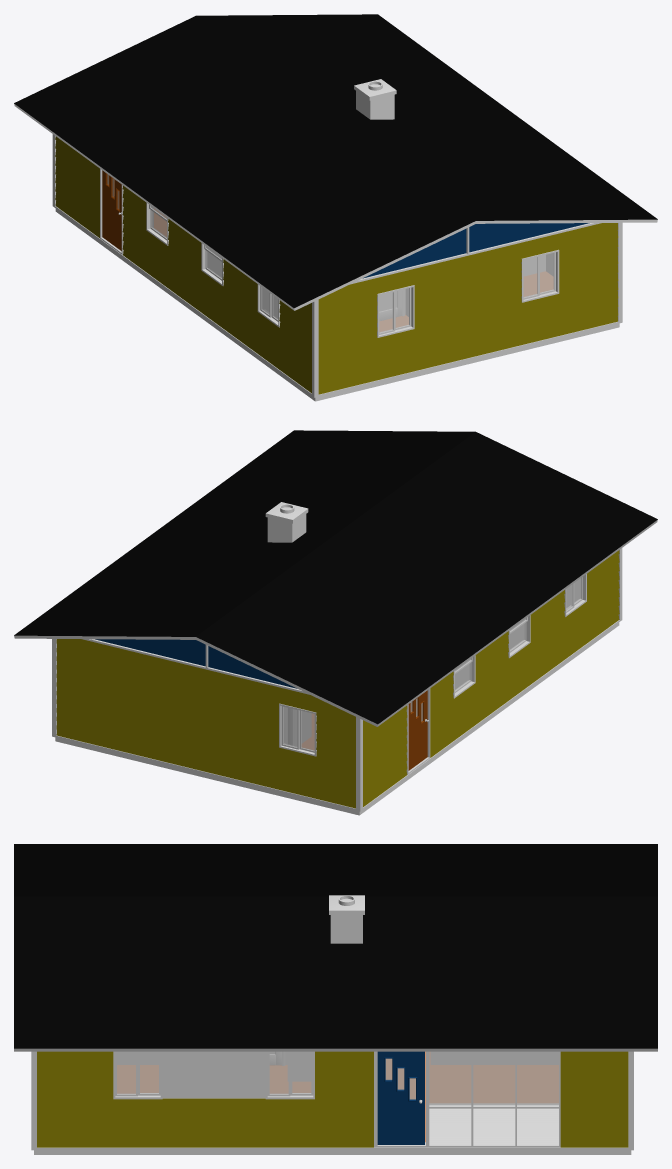
File: Kuning.fbx
3 renders of one model, top to bottom at view 1: azimuth 30°, elevation 25°; view 2: azimuth 150°, elevation 25°; view 3: azimuth 270°, elevation 25°, orthographic. The views are drawn at different scales.
Parts seen in each view (by area): view 1: fw-50-roof_Asphalt020_0.001, fw-50-siding_C_plywood_grey_0.001, fw-50-supportBeams_Wood058_0.001, fw-50-walls_Accent_Blue_0.001, fw-50-foundation_ConcreteSubstance004_0.001, fw-50-roof_Wood058_0.001, fw-50-doorFront_I.002_Accent_Blue_0.001, fw-50-windowDouble.002_Glass_0.001, fw-50-windowDouble.004_Glass_0.001, fw-50-walls_WoodFloor_0.001, fw-50-walls_Wood058_0.001, fw-50-chimney_Metal_White_0.001 (+3 smaller); view 2: fw-50-roof_Asphalt020_0.001, fw-50-siding_C_plywood_grey_0.001, fw-50-supportBeams_Wood058_0.001, fw-50-walls_Accent_Blue_0.001, fw-50-foundation_ConcreteSubstance004_0.001, fw-50-roof_Wood058_0.001, fw-50-doorFront_I.002_Accent_Blue_0.001, fw-50-windowDouble.006_Glass_0.001, fw-50-walls_Wood058_0.001, fw-50-chimney_Metal_White_0.001, fw-50-windowDouble.006_Wood058_0.001, fw-50-chimney_Metal_Aluminum_0.001; view 3: fw-50-roof_Asphalt020_0.001, fw-50-siding_C_plywood_grey_0.001, fw-50-walls_Wood058_0.001, fw-50-walls_WoodFloor_0.001, windowLarge-triple-designB.006_Glass_0.001, windowLarge-triple-designB.006_Wood058_0.001, fw-50-doorFront_I.001_Accent_Blue_0.001, fw-50-supportBeams_Wood058_0.001, fw-50-foundation_ConcreteSubstance004_0.001, fw-50-roof_Wood058_0.001, windowLarge-triple-designB.006_Wood_0.001, fw-50-windowDouble.003_Glass_0.001 (+6 smaller).
Boxes of the visible parts, x1,y1,x2,y2 form: fw-50-roof_Asphalt020_0.001: [14, 14, 657, 308]; fw-50-siding_C_plywood_grey_0.001: [55, 136, 618, 394]; fw-50-supportBeams_Wood058_0.001: [52, 134, 622, 397]; fw-50-walls_Accent_Blue_0.001: [363, 223, 589, 278]; fw-50-foundation_ConcreteSubstance004_0.001: [55, 209, 619, 401]; fw-50-roof_Wood058_0.001: [14, 103, 657, 310]; fw-50-doorFront_I.002_Accent_Blue_0.001: [102, 170, 121, 250]; fw-50-windowDouble.002_Glass_0.001: [523, 253, 553, 297]; fw-50-windowDouble.004_Glass_0.001: [379, 288, 409, 332]; fw-50-walls_WoodFloor_0.001: [154, 208, 553, 331]; fw-50-walls_Wood058_0.001: [209, 249, 553, 317]; fw-50-chimney_Metal_White_0.001: [356, 91, 394, 119]; fw-50-roof_Asphalt020_0.001: [14, 430, 657, 724]; fw-50-siding_C_plywood_grey_0.001: [56, 550, 619, 808]; fw-50-supportBeams_Wood058_0.001: [52, 548, 622, 811]; fw-50-walls_Accent_Blue_0.001: [95, 639, 296, 688]; fw-50-foundation_ConcreteSubstance004_0.001: [55, 622, 619, 815]; fw-50-roof_Wood058_0.001: [14, 520, 657, 726]; fw-50-doorFront_I.002_Accent_Blue_0.001: [408, 690, 427, 770]; fw-50-windowDouble.006_Glass_0.001: [283, 707, 314, 750]; fw-50-walls_Wood058_0.001: [294, 580, 578, 746]; fw-50-chimney_Metal_White_0.001: [267, 514, 306, 542]; fw-50-windowDouble.006_Wood058_0.001: [279, 703, 316, 756]; fw-50-chimney_Metal_Aluminum_0.001: [265, 502, 308, 523]; fw-50-roof_Asphalt020_0.001: [14, 844, 657, 1048]; fw-50-siding_C_plywood_grey_0.001: [37, 1051, 628, 1147]; fw-50-walls_Wood058_0.001: [117, 1051, 558, 1098]; fw-50-walls_WoodFloor_0.001: [117, 1051, 558, 1142]; windowLarge-triple-designB.006_Glass_0.001: [429, 1051, 558, 1104]; windowLarge-triple-designB.006_Wood058_0.001: [376, 1051, 558, 1147]; fw-50-doorFront_I.001_Accent_Blue_0.001: [377, 1051, 424, 1144]; fw-50-supportBeams_Wood058_0.001: [31, 1051, 633, 1150]; fw-50-foundation_ConcreteSubstance004_0.001: [34, 1150, 631, 1154]; fw-50-roof_Wood058_0.001: [14, 1048, 657, 1051]; windowLarge-triple-designB.006_Wood_0.001: [374, 1051, 560, 1147]; fw-50-windowDouble.003_Glass_0.001: [269, 1051, 311, 1093].
Bounding box in the file's own units: 919 × 410 × 1224.
